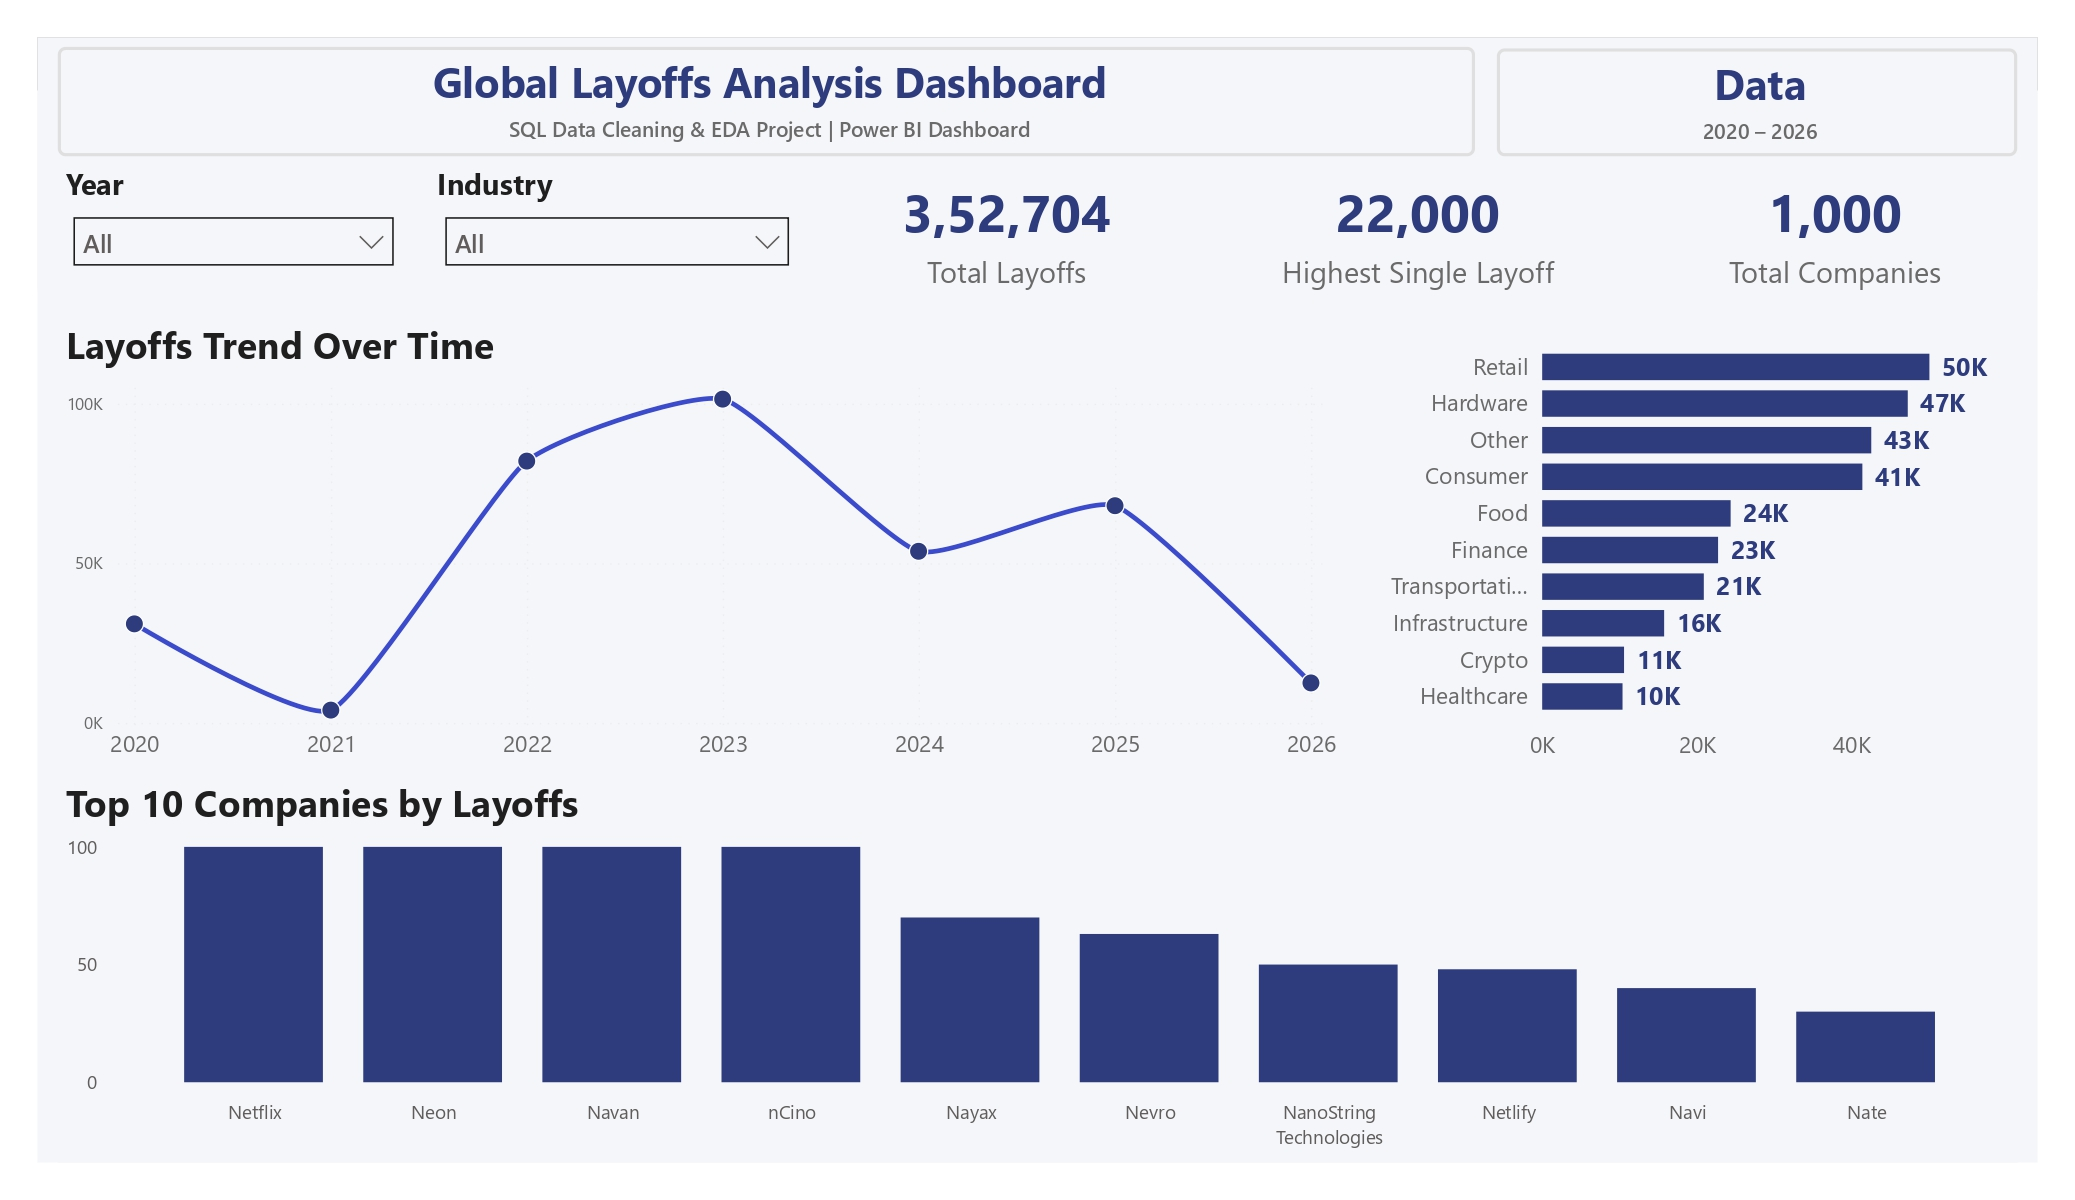

What the dashboard file says about the page in this screenshot:
{"tool":"powerbi","page":{"name":"Page 1","canvas":[1280,720],"ordinal":0},"visuals":[{"type":"textbox","title":"Global Layoffs Analysis Dashboard","box":[12.9,6.4,907.1,69.3],"z":0},{"type":"textbox","title":"Data","box":[933.9,6.5,333.5,69.1],"z":1000},{"type":"card","title":"d mc d","fields":{"Values":["Sum(layoffs.total_laid_off)"]},"box":[506.4,80.7,228.6,86.4],"z":2000},{"type":"card","fields":{"Values":["Max(layoffs.total_laid_off)"]},"box":[752.9,80.7,261.4,86.4],"z":3000},{"type":"card","fields":{"Values":["CountNonNull(layoffs.company)"]},"box":[1034.3,80.7,232.9,86.4],"z":4000},{"type":"lineChart","title":"Layoffs Trend Over Time","fields":{"Category":["layoffs.date.Variation.Date Hierarchy.Year"],"Y":["Sum(layoffs.total_laid_off)"]},"box":[12.9,180.4,822.9,293.1],"z":5000},{"type":"clusteredBarChart","title":"Layoffs by Industry","fields":{"Category":["layoffs.industry"],"Y":["Sum(layoffs.total_laid_off)"]},"box":[845.4,180.4,421.9,293.1],"z":6000},{"type":"columnChart","title":"Top 10 Companies by Layoffs","fields":{"Category":["layoffs.company"],"Y":["Sum(layoffs.total_laid_off)"]},"box":[12.9,473.4,1254.4,246.4],"z":7000},{"type":"slicer","title":"Year","fields":{"Values":["layoffs.date.Variation.Date Hierarchy.Year"]},"box":[12.9,80.7,225,86.4],"z":8000},{"type":"slicer","title":"Industry","fields":{"Values":["layoffs.industry"]},"box":[250.7,80.7,240.7,86.4],"z":9000}]}

Visuals, with their boxes on the page's 1280x720 design canvas (x1, y1, x2, y2). These are canvas units, not pixel positions in the 2075x1200 screenshot, which may show the page scaled, cropped or inside an application window:
"Global Layoffs Analysis Dashboard" textbox: (13,6,920,76)
"Data" textbox: (934,6,1267,76)
"d mc d" card: (506,81,735,167)
card - Max(layoffs.total_laid_off): (753,81,1014,167)
card - CountNonNull(layoffs.company): (1034,81,1267,167)
"Layoffs Trend Over Time" lineChart: (13,180,836,474)
"Layoffs by Industry" clusteredBarChart: (845,180,1267,474)
"Top 10 Companies by Layoffs" columnChart: (13,473,1267,720)
"Year" slicer: (13,81,238,167)
"Industry" slicer: (251,81,491,167)
